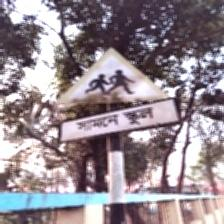School-in-front: (56, 46, 180, 145)
